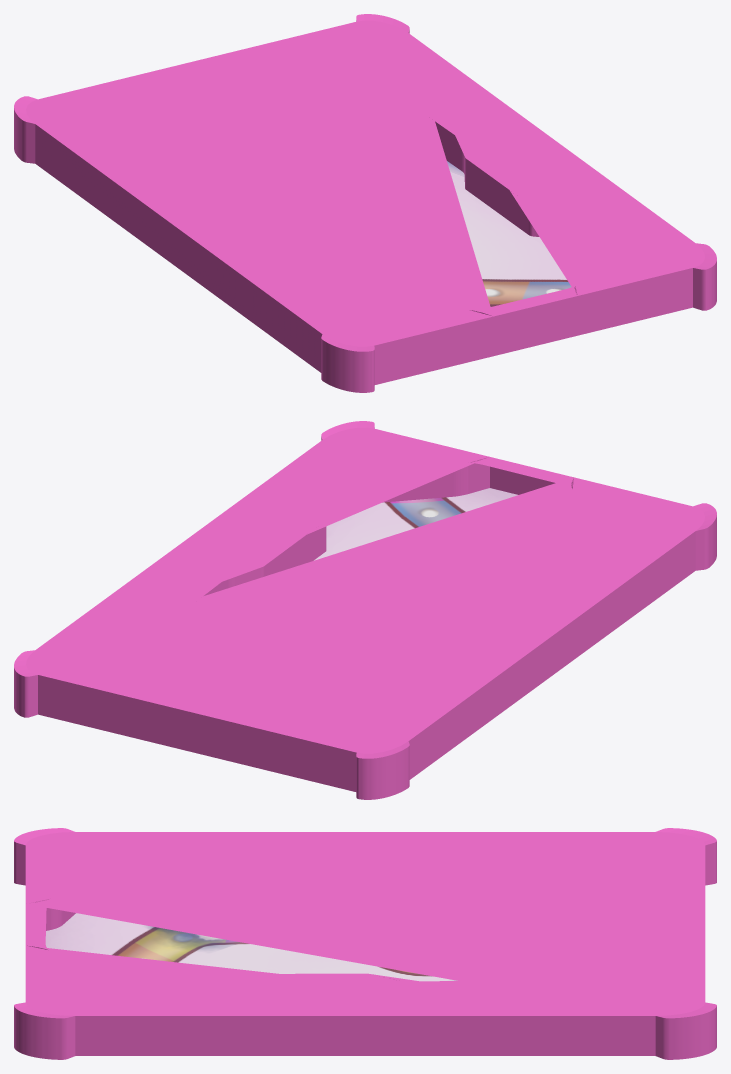
The model's file is G477Proj1Board 1.fbx.
3 renders of one model, top to bottom at view 1: azimuth 30°, elevation 25°; view 2: azimuth 150°, elevation 25°; view 3: azimuth 270°, elevation 25°, orthographic.
Visible parts, largest first — view 1: Cube.001; view 2: Cube.001; view 3: Cube.001.
Part boxes in pixels (x1=…): Cube.001: x1=14, y1=14, x2=716, y2=392; Cube.001: x1=14, y1=421, x2=716, y2=799; Cube.001: x1=14, y1=828, x2=716, y2=1059.
Size of the model in its own units: 744 by 75.81 by 1161.
Materials: 2 (1 with a texture image).
